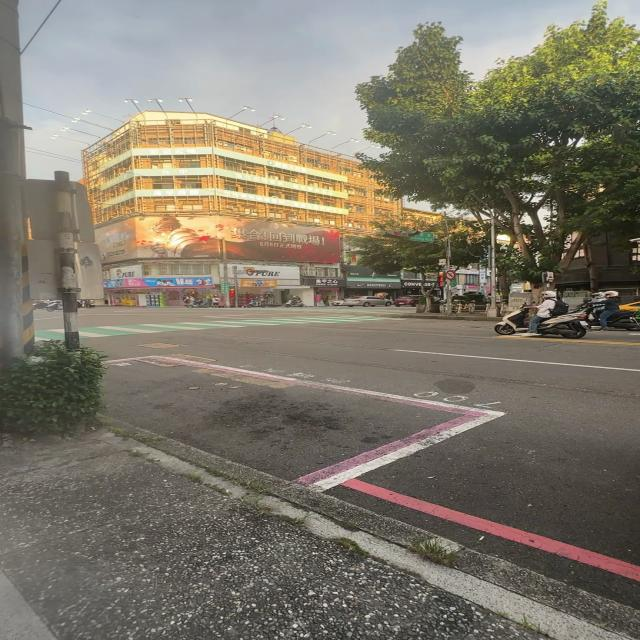car: (238, 308, 417, 315), (342, 296, 393, 306), (393, 295, 421, 306)
crosswalk: (80, 315, 428, 338), (34, 328, 65, 342)
motocycle: (538, 311, 589, 339), (494, 309, 529, 335), (607, 310, 640, 331)
